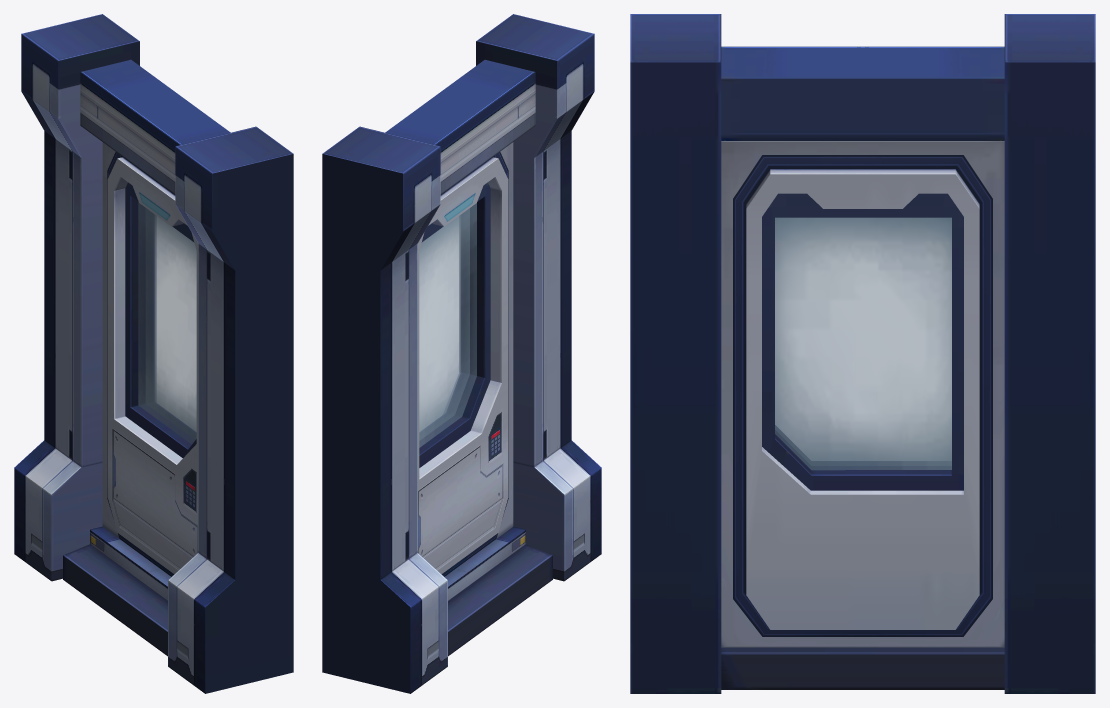
The model's file is my_carrier_01_partition_02.glb.
The picture shows the model from 3 angles, left to right: view 1: azimuth 30°, elevation 25°; view 2: azimuth 150°, elevation 25°; view 3: azimuth 270°, elevation 25°; orthographic projection. The views are drawn at different scales.
Visible parts, largest first — view 1: my_carrier_01_partition_02; view 2: my_carrier_01_partition_02; view 3: my_carrier_01_partition_02.
Part boxes in pixels (left/top/right/bottom): my_carrier_01_partition_02: left=14, top=14, right=293, bottom=693; my_carrier_01_partition_02: left=322, top=14, right=601, bottom=693; my_carrier_01_partition_02: left=630, top=14, right=1095, bottom=693.
Size of the model in its own units: 0.0032 by 0.018 by 0.012.
2 materials, 2 textured.
